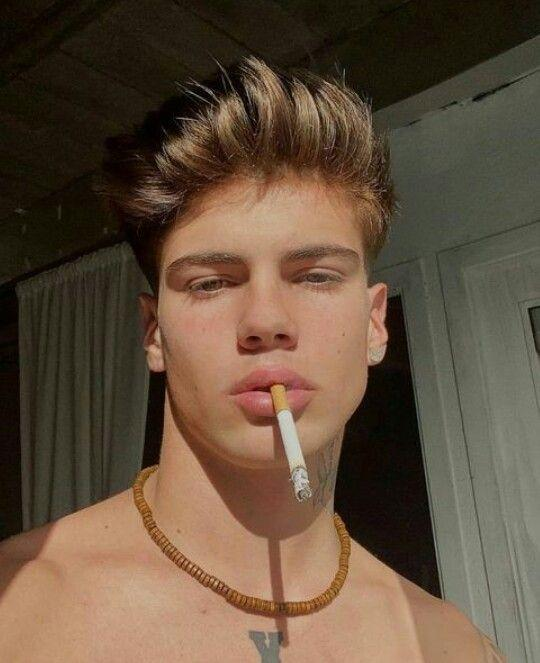cigarette: (270, 383, 311, 503)
